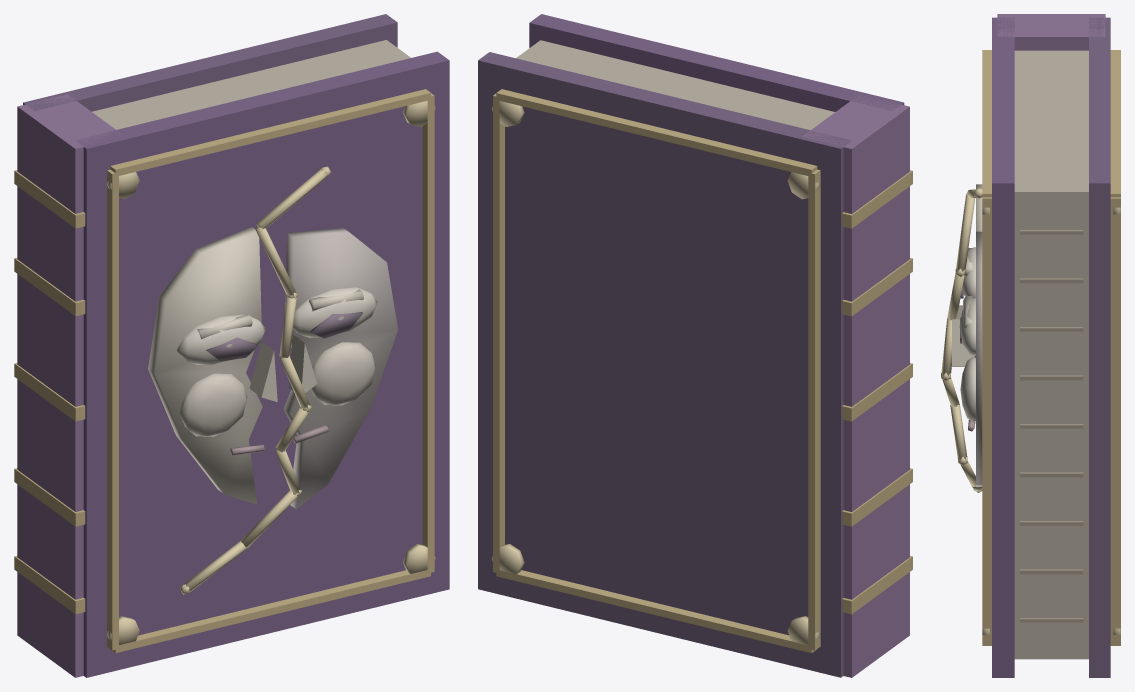
Rendered from ART-22.glb.
3 views of the same model, side by side, from view 1: azimuth 30°, elevation 25°; view 2: azimuth 150°, elevation 25°; view 3: azimuth 270°, elevation 25° (orthographic). The views are drawn at different scales.
Parts seen in each view (by area): view 1: world; view 2: world; view 3: world.
Part boxes in pixels (x1,y1,x2,y2): world: (14, 14, 449, 677); world: (478, 14, 912, 677); world: (941, 14, 1120, 677).
Size of the model in its own units: 1.48 by 2 by 0.6587.
